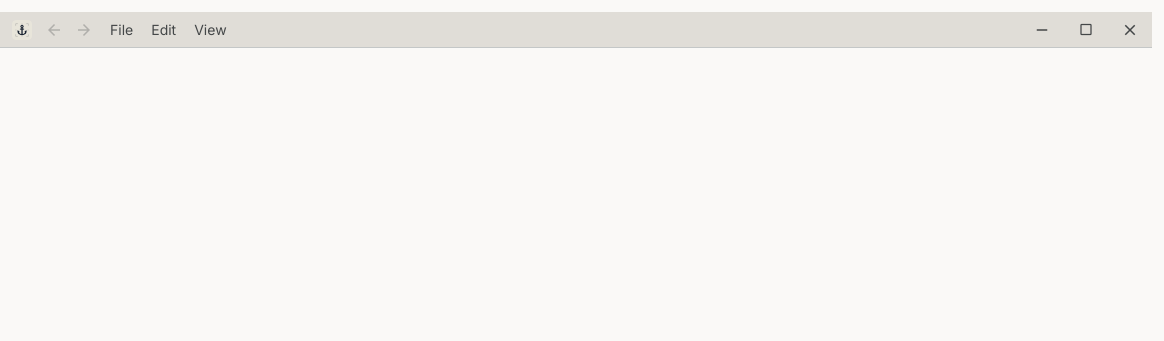
Test: <TitleBar /> › Edit menu claims › reports what the claimant can actually do by disabling the rest
Click the button "Edit": (164, 30) 143,16 -> 184,44
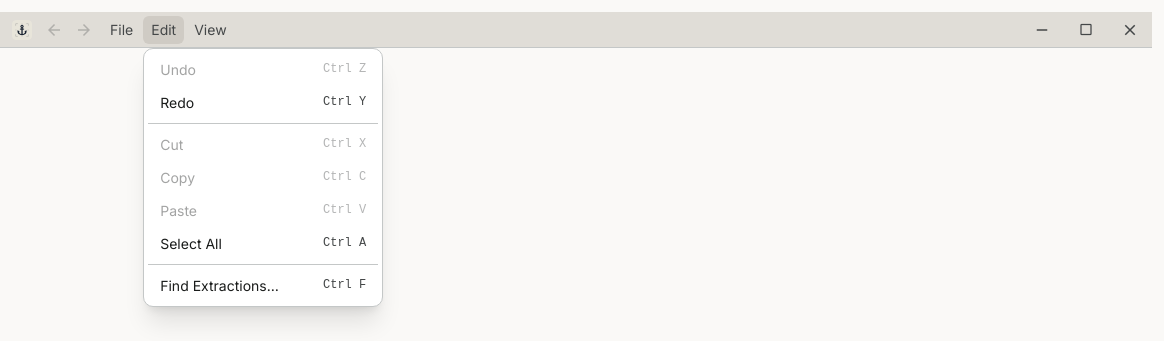
Check: the menu item "Undo Ctrl Z" is disabled, box 148,52 -> 378,86
Check: the menu item "Cut Ctrl X" is disabled, box 148,128 -> 378,160
Check: the menu item "Redo Ctrl Y" is enabled, box 148,86 -> 378,118
